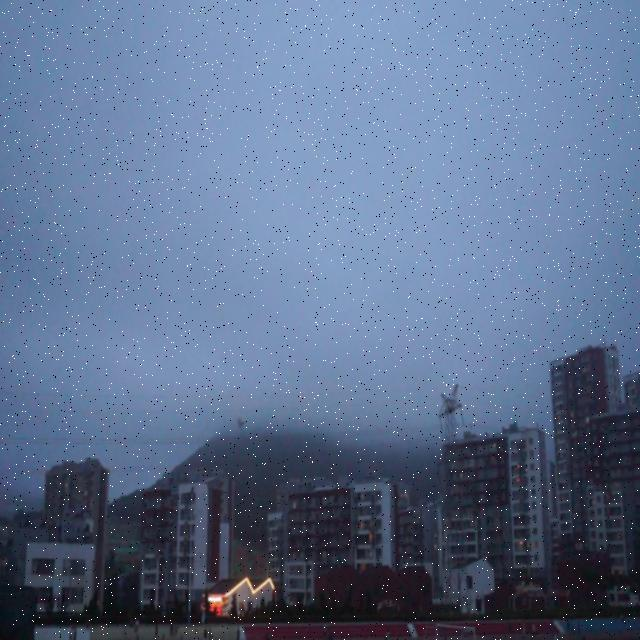UAV: (237, 416, 246, 427)
